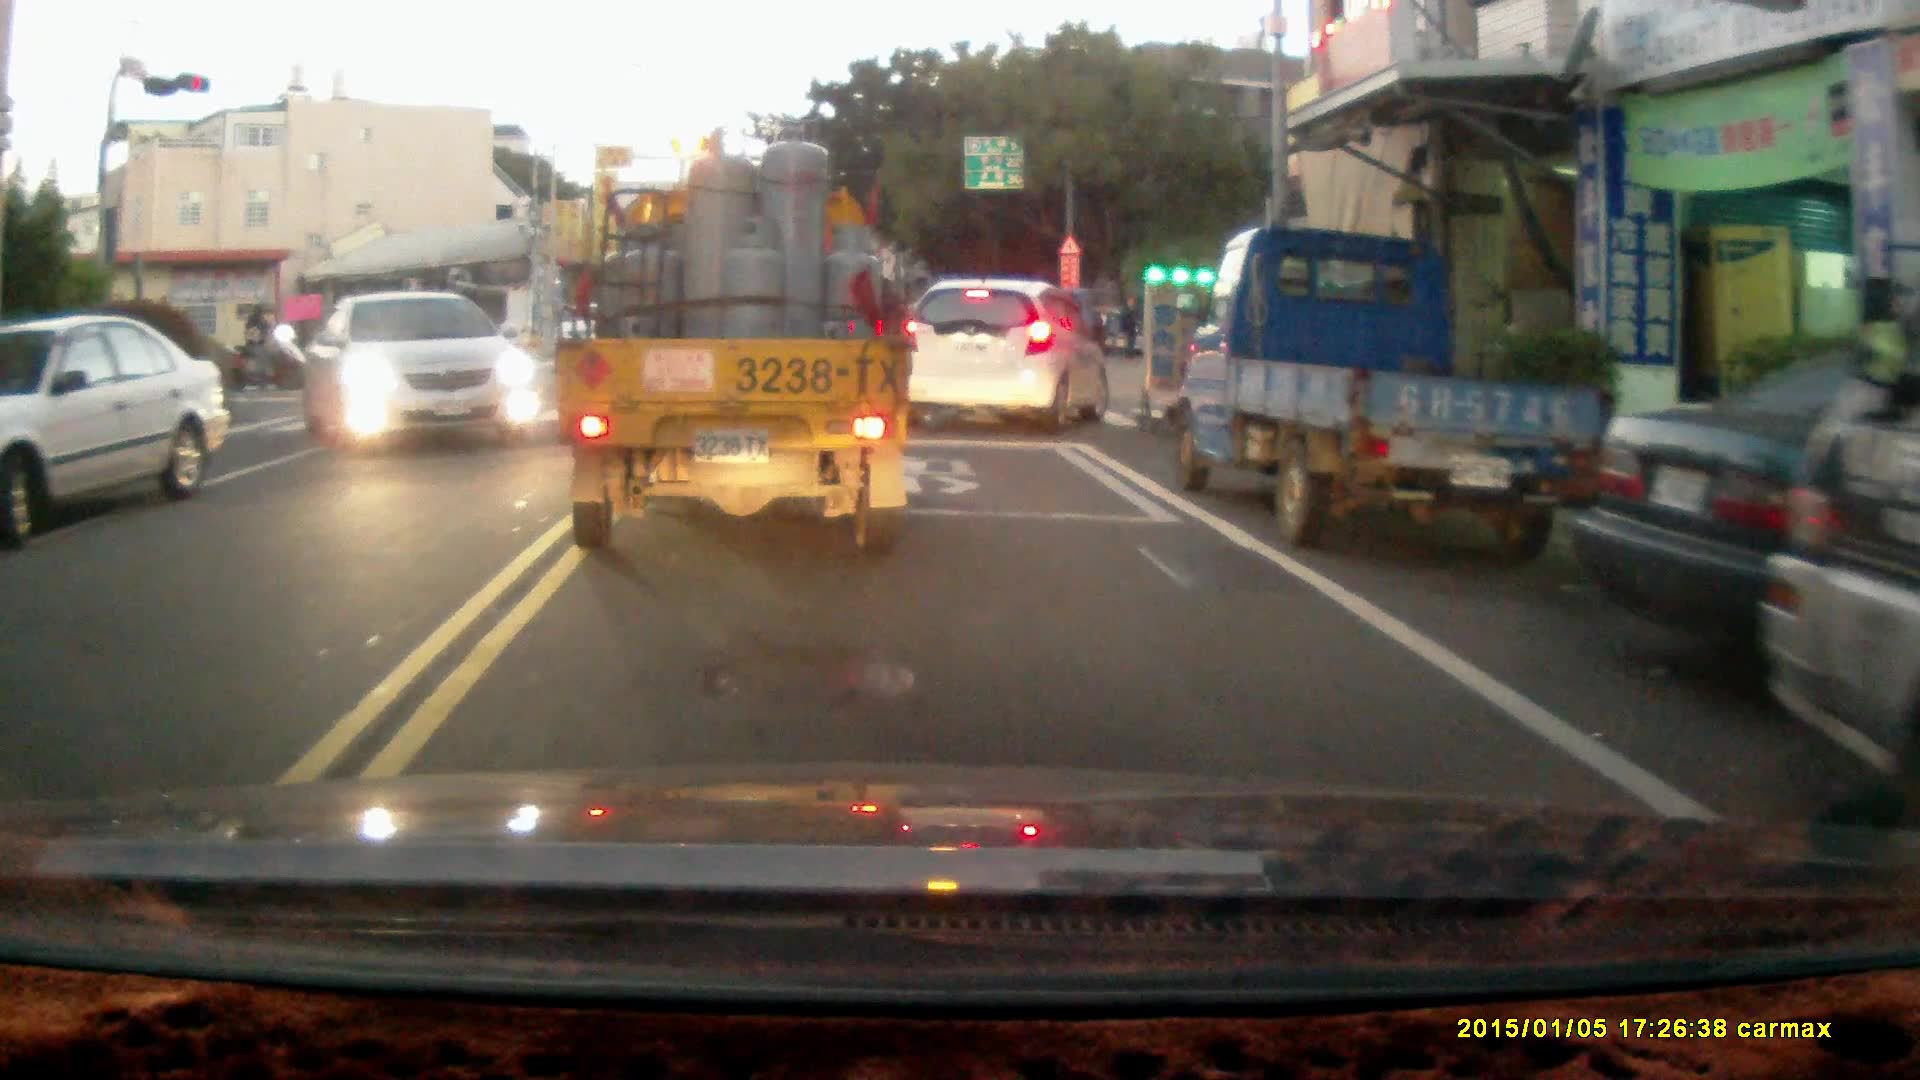rider: (221, 301, 305, 393)
vehicle: (555, 115, 918, 553), (1184, 225, 1602, 561), (1755, 311, 1920, 804), (1, 317, 228, 530), (296, 292, 540, 448), (904, 279, 1119, 431)
